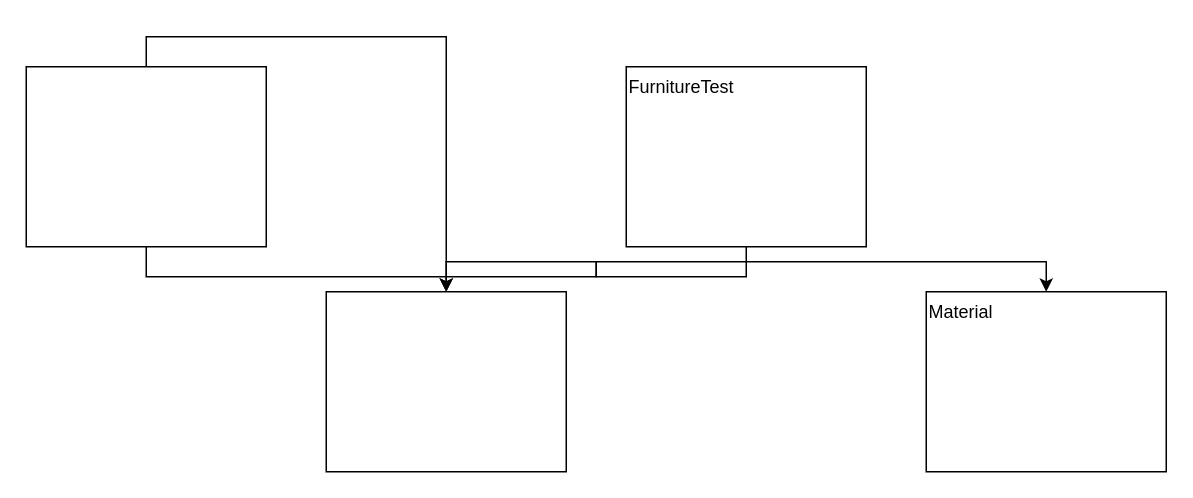
Image size: 1193x498. Some labels were removed from this diagram. Each missing label, with the box of its shape:
Furniture: (25, 65, 266, 247)
Table: (325, 290, 566, 472)
